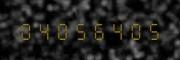five: (71, 20, 88, 40), (143, 20, 160, 40)
four: (35, 20, 52, 40), (107, 20, 124, 40)
six: (89, 20, 106, 40)
zero: (17, 20, 34, 40), (53, 20, 70, 40), (125, 20, 142, 40)
